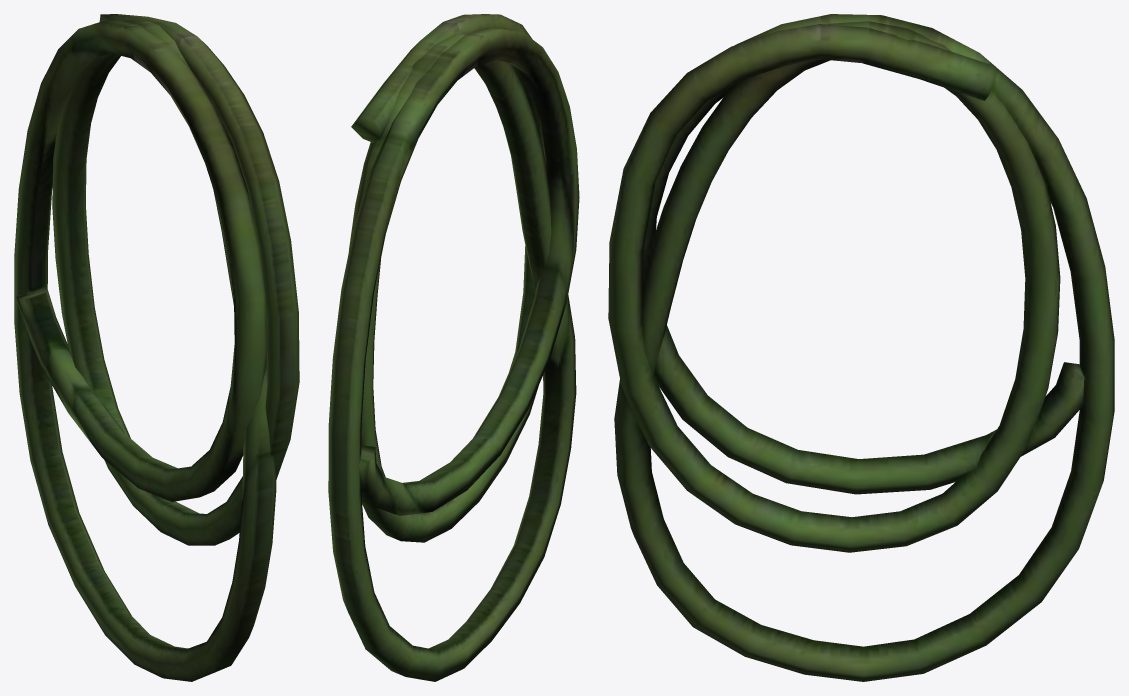
3 views of the same model, side by side, from view 1: azimuth 30°, elevation 25°; view 2: azimuth 150°, elevation 25°; view 3: azimuth 270°, elevation 25° (orthographic). The views are drawn at different scales.
Visible parts, largest first — view 1: body0_model0_lod0_mesh0; view 2: body0_model0_lod0_mesh0; view 3: body0_model0_lod0_mesh0.
Boxes of the visible parts, x1,y1,x2,y2 form: body0_model0_lod0_mesh0: (14, 14, 299, 681); body0_model0_lod0_mesh0: (328, 14, 579, 681); body0_model0_lod0_mesh0: (608, 14, 1114, 681).
Bounding box in the file's own units: 2.63 × 24.19 × 16.65.
Materials: 1 (1 with a texture image).
